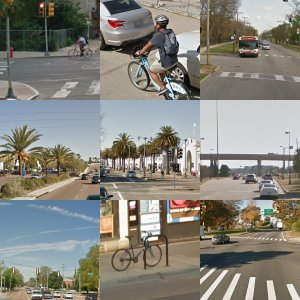汽車: (14, 42, 98, 96), (134, 108, 156, 125)
腳踏車: (39, 233, 83, 274), (135, 222, 171, 264), (121, 34, 151, 59)
